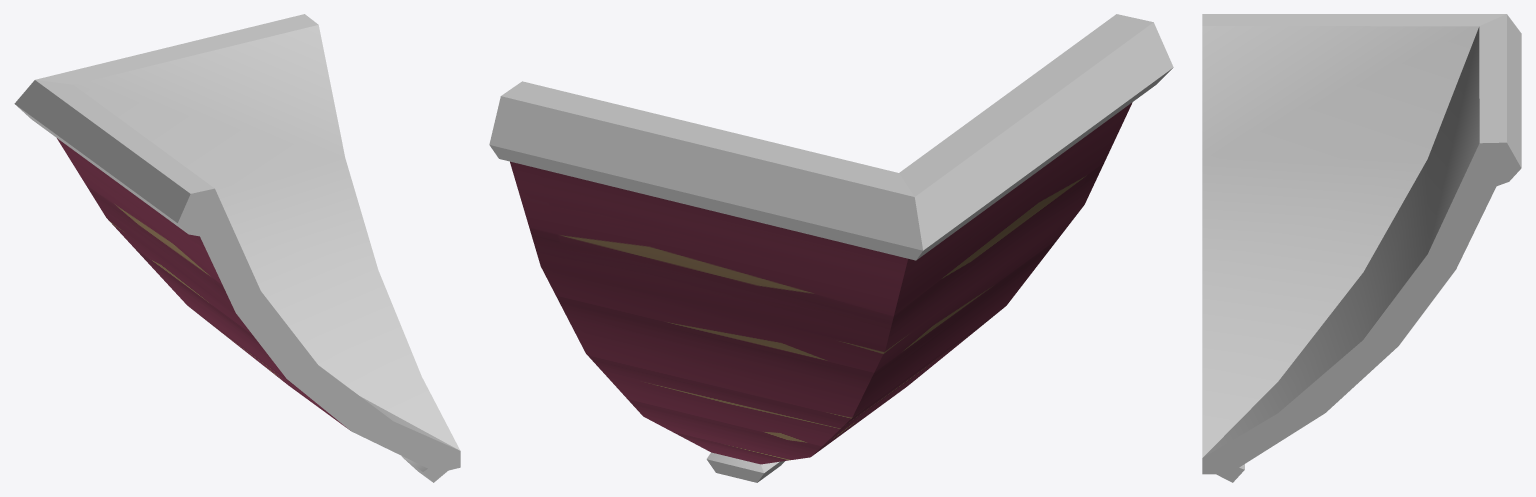
The model's file is SM_Bld_Roof_S_Concave_Corner_In_01.fbx.
3 views of the same model, side by side, from view 1: azimuth 30°, elevation 25°; view 2: azimuth 150°, elevation 25°; view 3: azimuth 270°, elevation 25° (orthographic). The views are drawn at different scales.
Visible parts, largest first — view 1: SM_Bld_Roof_S_Concave_Corner_In_01; view 2: SM_Bld_Roof_S_Concave_Corner_In_01; view 3: SM_Bld_Roof_S_Concave_Corner_In_01.
Boxes of the visible parts, x1=… form: SM_Bld_Roof_S_Concave_Corner_In_01: x1=14, y1=14, x2=460, y2=482; SM_Bld_Roof_S_Concave_Corner_In_01: x1=489, y1=14, x2=1173, y2=482; SM_Bld_Roof_S_Concave_Corner_In_01: x1=1202, y1=14, x2=1521, y2=482.
Bounding box in the file's own units: 131 × 154 × 131.
